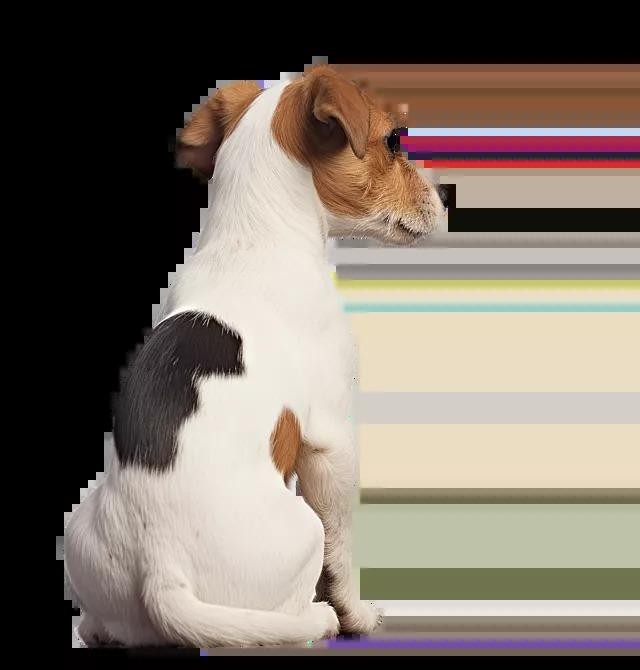adult_dog: (61, 62, 448, 650)
